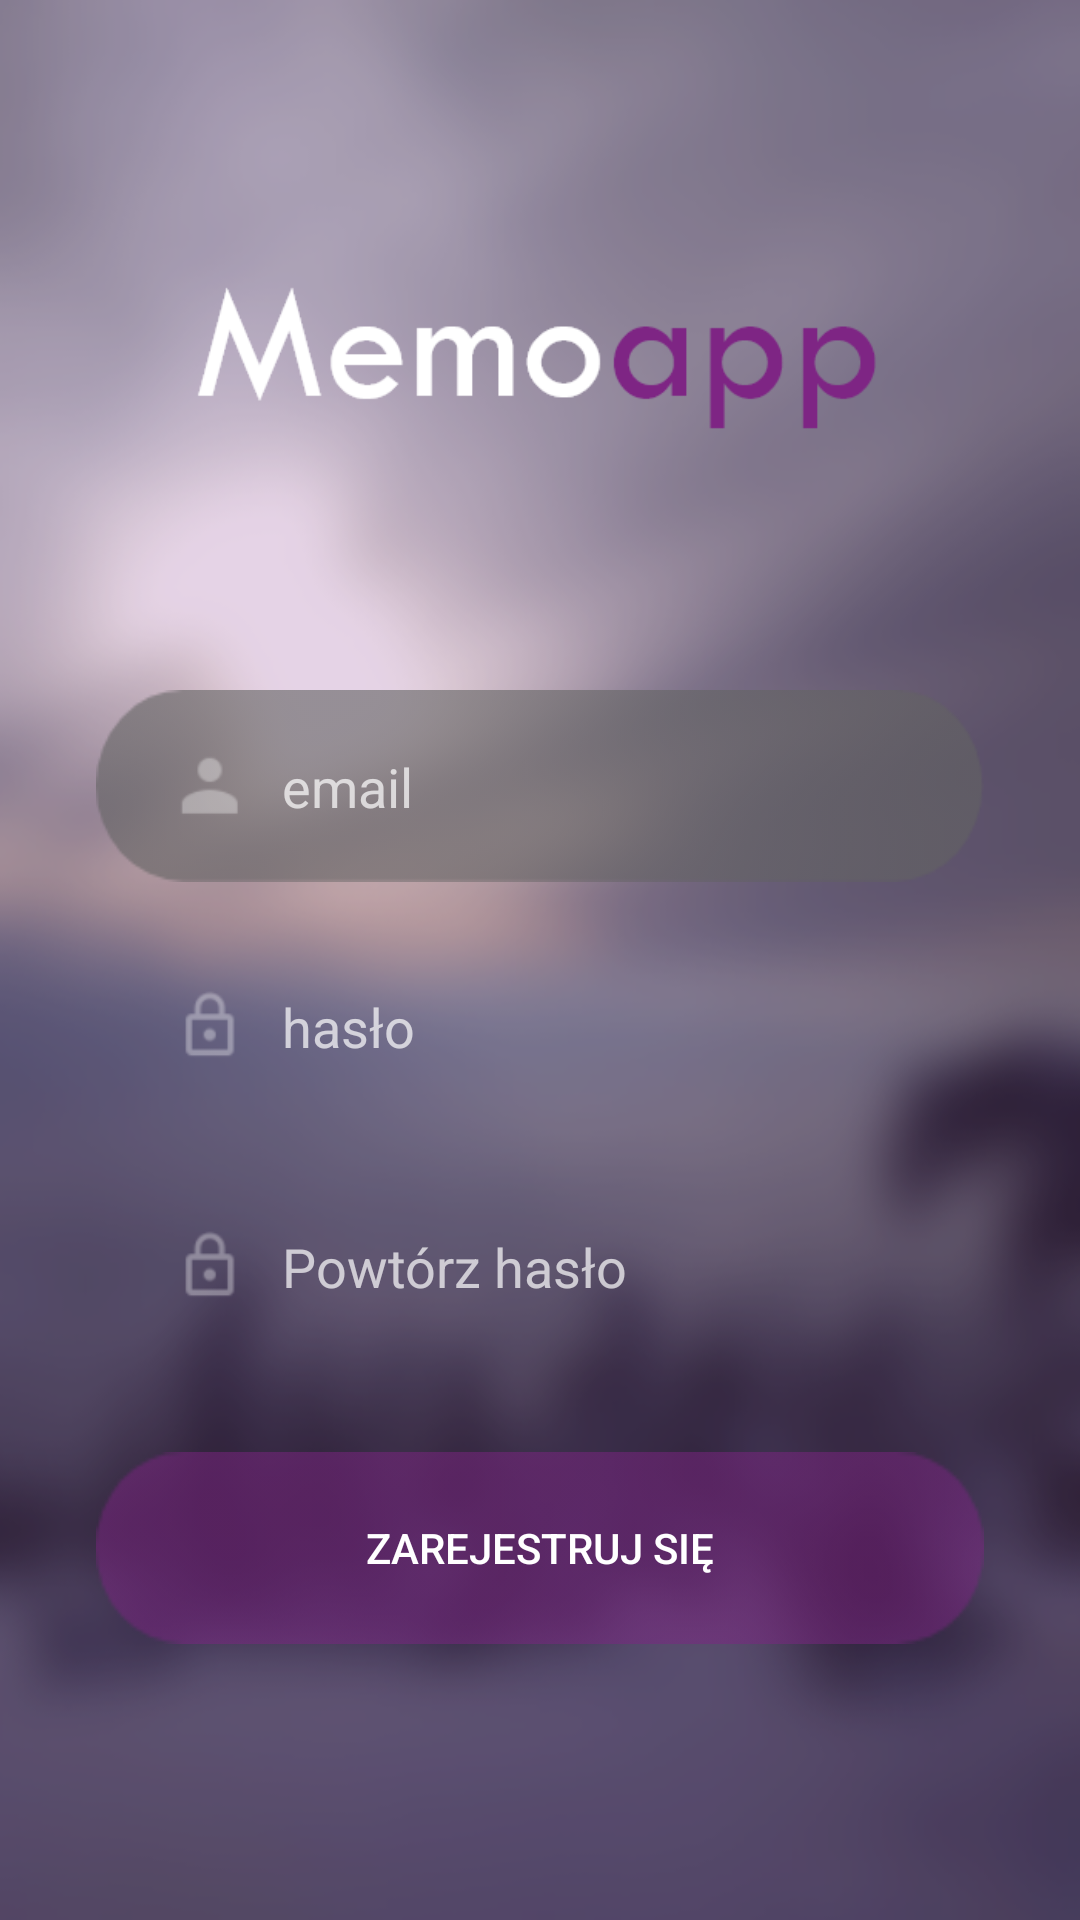

Where to tap for icons on this 1080×1920 app screen, as [x,y]:
lock: [210,1023], [210,1264]
person: [210,786]
